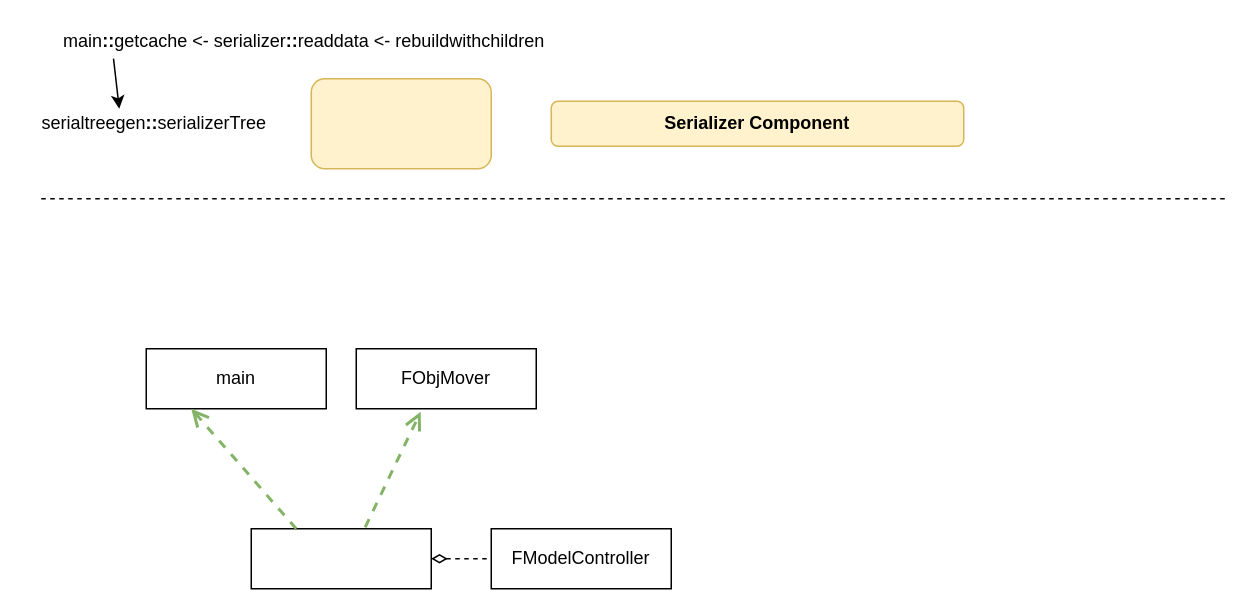
This 1254x615 diagram has some shape labels left out. The shapes that lost their labels are listed below. From the top down, each one's box as (x1, y1, x2, y2) in pixels, then its label:
(310, 77, 491, 169): Serializer
(250, 527, 431, 589): FModelView
